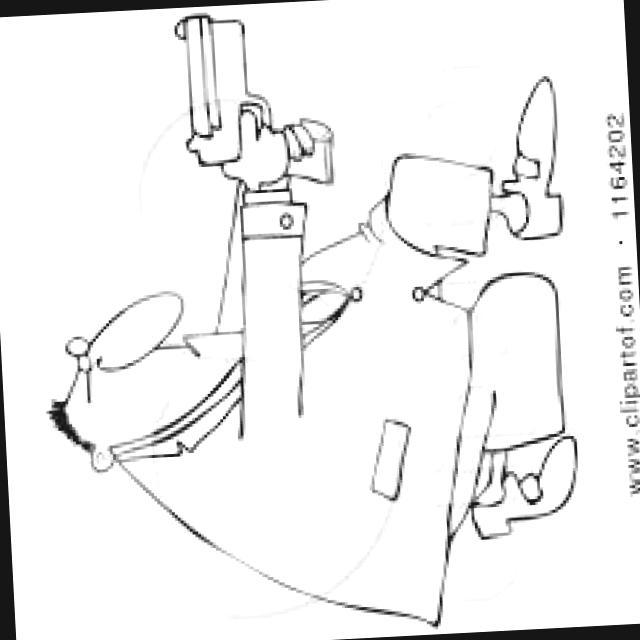handgun: (163, 10, 343, 205)
